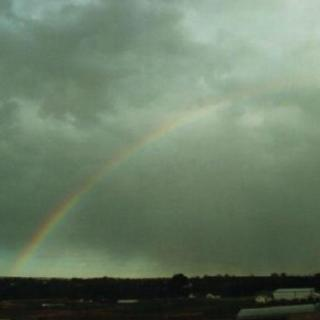Stratocumulus: (5, 0, 320, 262)
